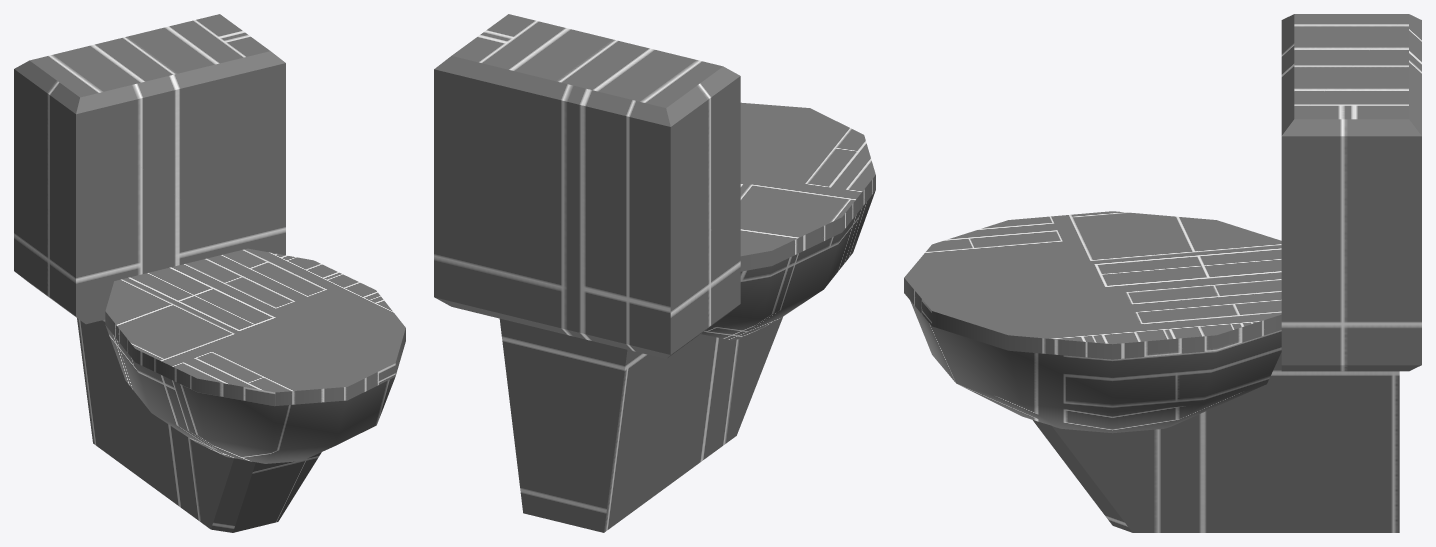
Rendered from ToiletUnwrapped.fbx.
3 views of the same model, side by side, from view 1: azimuth 30°, elevation 25°; view 2: azimuth 150°, elevation 25°; view 3: azimuth 270°, elevation 25° (orthographic). The views are drawn at different scales.
Visible parts, largest first — view 1: Cube_1, Disc, Cube, Sphere; view 2: Cube_1, Cube, Disc, Sphere; view 3: Cube_1, Disc, Cube, Sphere.
Part boxes in pixels (x1=…): Cube_1: x1=14, y1=14, x2=285, y2=324; Disc: x1=105, y1=248, x2=405, y2=405; Cube: x1=77, y1=318, x2=321, y2=532; Sphere: x1=105, y1=325, x2=395, y2=463; Cube_1: x1=434, y1=14, x2=740, y2=358; Cube: x1=499, y1=317, x2=782, y2=532; Disc: x1=740, y1=102, x2=875, y2=271; Sphere: x1=701, y1=191, x2=875, y2=340; Cube_1: x1=1281, y1=14, x2=1421, y2=371; Disc: x1=904, y1=211, x2=1281, y2=359; Cube: x1=1033, y1=352, x2=1399, y2=532; Sphere: x1=910, y1=300, x2=1281, y2=433.
Size of the model in its own units: 37 by 57.92 by 60.86.
